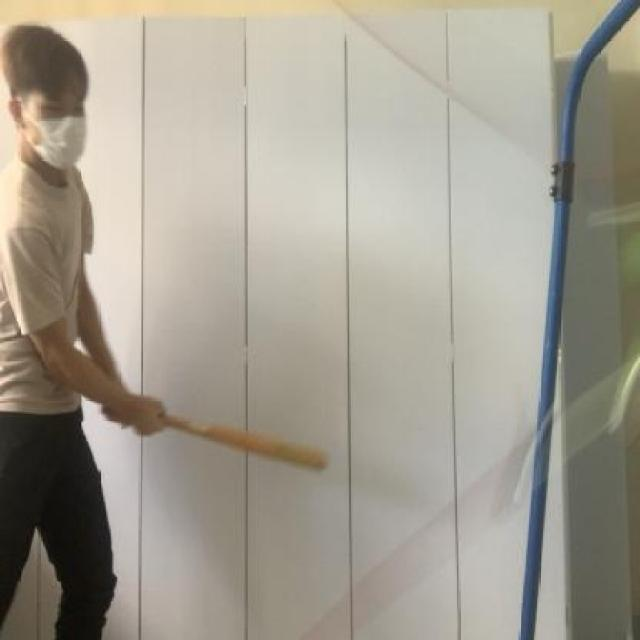baseball: (615, 220, 640, 289)
